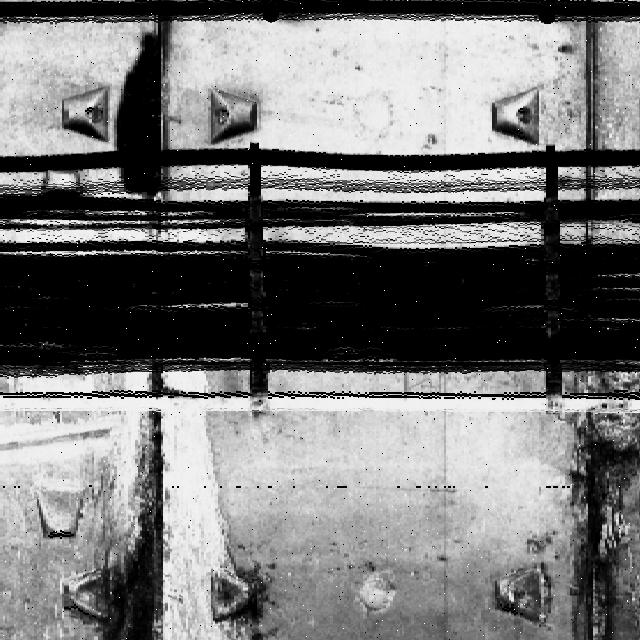leakage: (68, 371, 267, 640), (536, 410, 639, 640), (100, 11, 194, 204)
